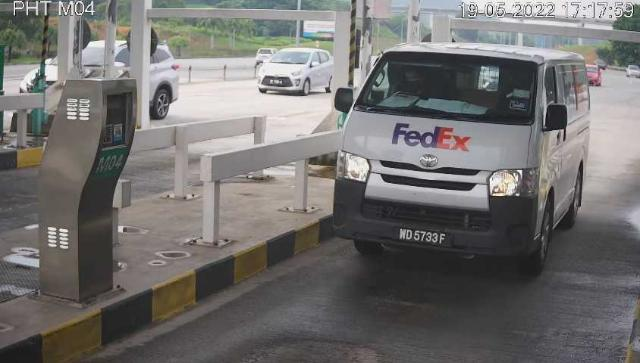License_Plate: (392, 227, 454, 252)
van: (334, 45, 592, 277)
